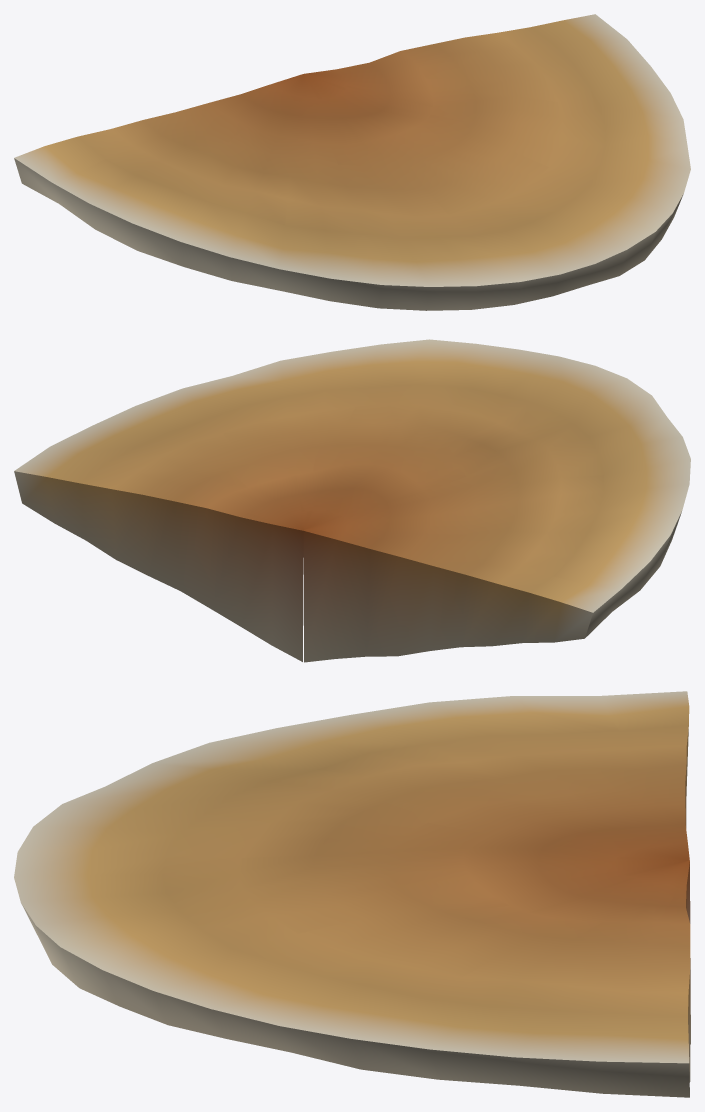
Rendered from glade_spire_bracket.glb.
The picture shows the model from 3 angles, top to bottom: view 1: azimuth 30°, elevation 25°; view 2: azimuth 150°, elevation 25°; view 3: azimuth 270°, elevation 25°; orthographic projection. The views are drawn at different scales.
Visible parts, largest first — view 1: glade_spire_bracket; view 2: glade_spire_bracket; view 3: glade_spire_bracket.
Part boxes in pixels (x1=…): glade_spire_bracket: x1=14, y1=14, x2=690, y2=310; glade_spire_bracket: x1=14, y1=339, x2=690, y2=662; glade_spire_bracket: x1=14, y1=691, x2=690, y2=1097.
Bounding box in the file's own units: 3.4 × 0.745 × 2.6.
